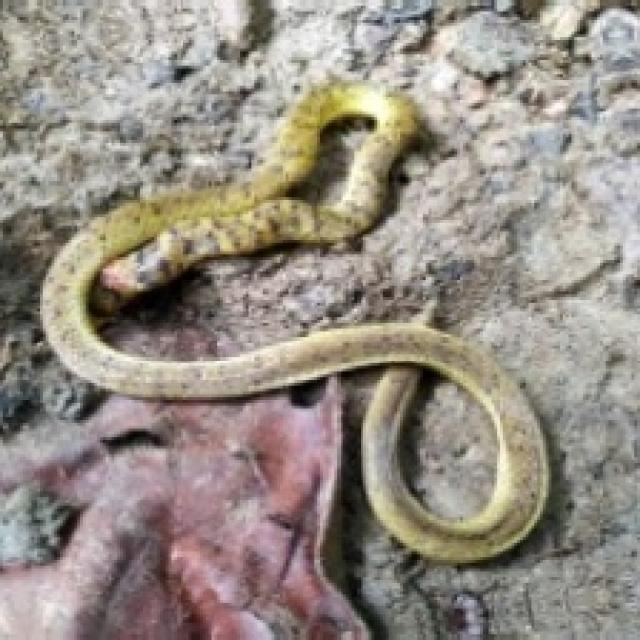luzon dwarf snake: (40, 83, 546, 560)
